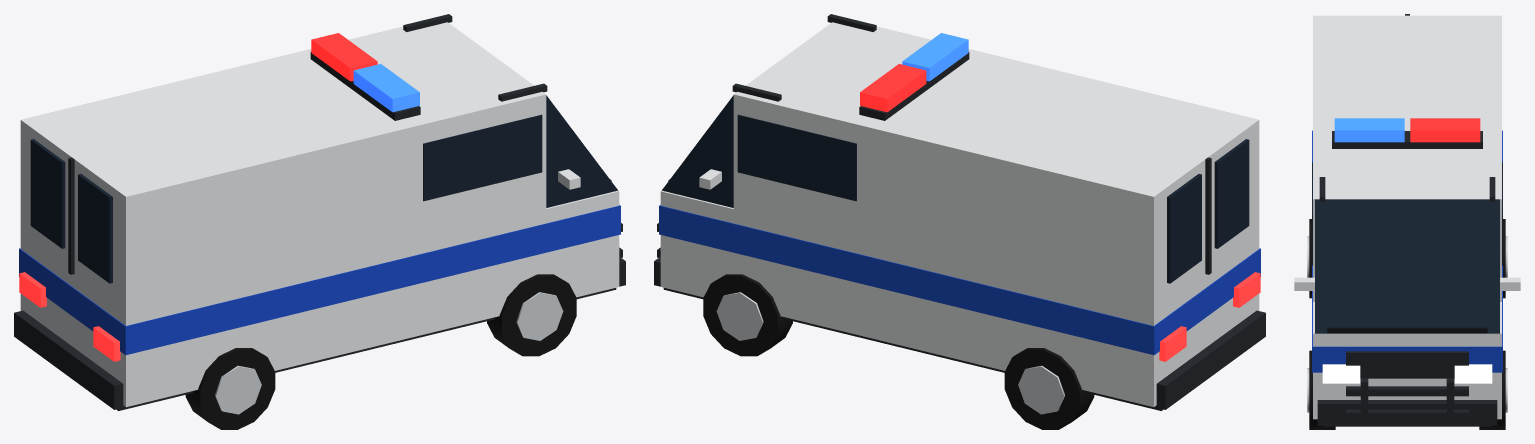
The model's file is police-van.glb.
3 views of the same model, side by side, from view 1: azimuth 30°, elevation 25°; view 2: azimuth 150°, elevation 25°; view 3: azimuth 270°, elevation 25° (orthographic). The views are drawn at different scales.
Visible parts, largest first — view 1: Upper, Body, Stripe, Wheel (×2), SideWindows, RearWindow (×2), Lightbar, Windshield, Bumper, Taillight (×2), Police_Van, Skirt (+1 smaller); view 2: Upper, Body, Stripe, Wheel (×2), SideWindows, RearWindow (×2), Lightbar, Windshield, Bumper, Taillight (×2), Police_Van, Skirt (+1 smaller); view 3: Upper, Windshield, Body, Lightbar, Police_Van, Bumper, Grille, Stripe, Wheel (×4), Headlight (×2), HoodPanel, Skirt.
Boxes of the visible parts, x1,y1,x2,y2 form: Upper: (20, 22, 546, 311); Body: (20, 190, 619, 407); Stripe: (19, 205, 620, 355); Wheel (×2): (185, 274, 576, 429); SideWindows: (423, 114, 542, 201); RearWindow (×2): (30, 139, 112, 283); Lightbar: (310, 33, 420, 120); Windshield: (546, 95, 617, 207); Bumper: (14, 310, 125, 409); Taillight (×2): (19, 272, 120, 361); Police_Van: (403, 14, 622, 257); Skirt: (116, 288, 616, 410); Upper: (733, 22, 1259, 311); Body: (660, 190, 1259, 407); Stripe: (659, 205, 1260, 355); Wheel (×2): (703, 274, 1094, 429); SideWindows: (737, 114, 856, 201); RearWindow (×2): (1167, 139, 1249, 283); Lightbar: (859, 33, 969, 120); Windshield: (662, 95, 733, 207); Bumper: (1154, 310, 1265, 409); Taillight (×2): (1159, 272, 1260, 361); Police_Van: (657, 14, 876, 257); Skirt: (663, 288, 1163, 410); Upper: (1313, 15, 1501, 301); Windshield: (1315, 199, 1499, 333); Body: (1313, 302, 1501, 419); Lightbar: (1332, 118, 1482, 148); Police_Van: (1294, 177, 1520, 424); Bumper: (1317, 400, 1497, 425); Grille: (1346, 351, 1468, 378); Stripe: (1312, 130, 1502, 372); Wheel (×4): (1307, 219, 1507, 429); Headlight (×2): (1322, 364, 1492, 383); HoodPanel: (1327, 327, 1487, 333); Skirt: (1322, 425, 1492, 426).
Bounding box in the file's own units: 5.75 × 2.92 × 2.4.
